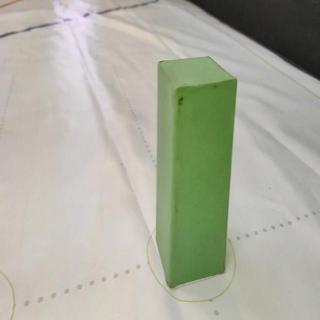greenbox: (157, 53, 238, 288)
